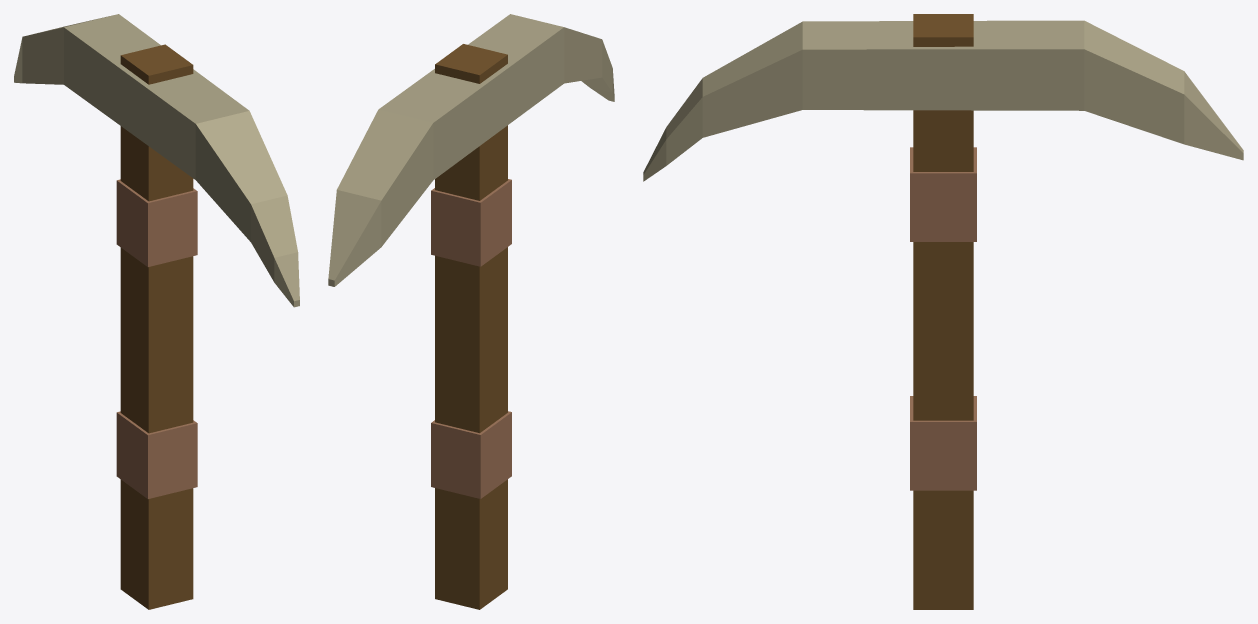
File: Кирка.fbx
3 views of the same model, side by side, from view 1: azimuth 30°, elevation 25°; view 2: azimuth 150°, elevation 25°; view 3: azimuth 270°, elevation 25° (orthographic). The views are drawn at different scales.
Visible parts, largest first — view 1: Кирка; view 2: Кирка; view 3: Кирка.
Boxes of the visible parts, x1=… form: Кирка: x1=14, y1=14, x2=299, y2=609; Кирка: x1=328, y1=14, x2=614, y2=609; Кирка: x1=643, y1=14, x2=1243, y2=609.
Bounding box in the file's own units: 24.85 × 231 × 219.
